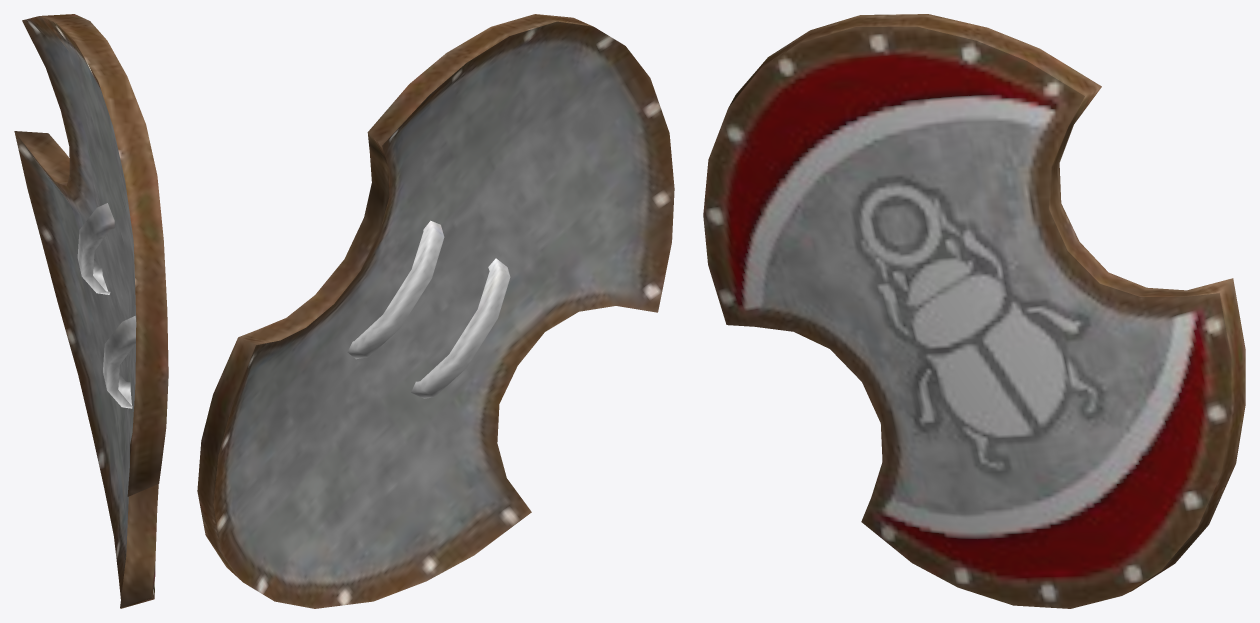
The model's file is rider-shield-slice-bronzeshields.glb.
3 views of the same model, side by side, from view 1: azimuth 30°, elevation 25°; view 2: azimuth 150°, elevation 25°; view 3: azimuth 270°, elevation 25° (orthographic). The views are drawn at different scales.
Size of the model in its own units: 0.2057 by 0.4891 by 0.4421.
Materials: 1 (1 with a texture image).
